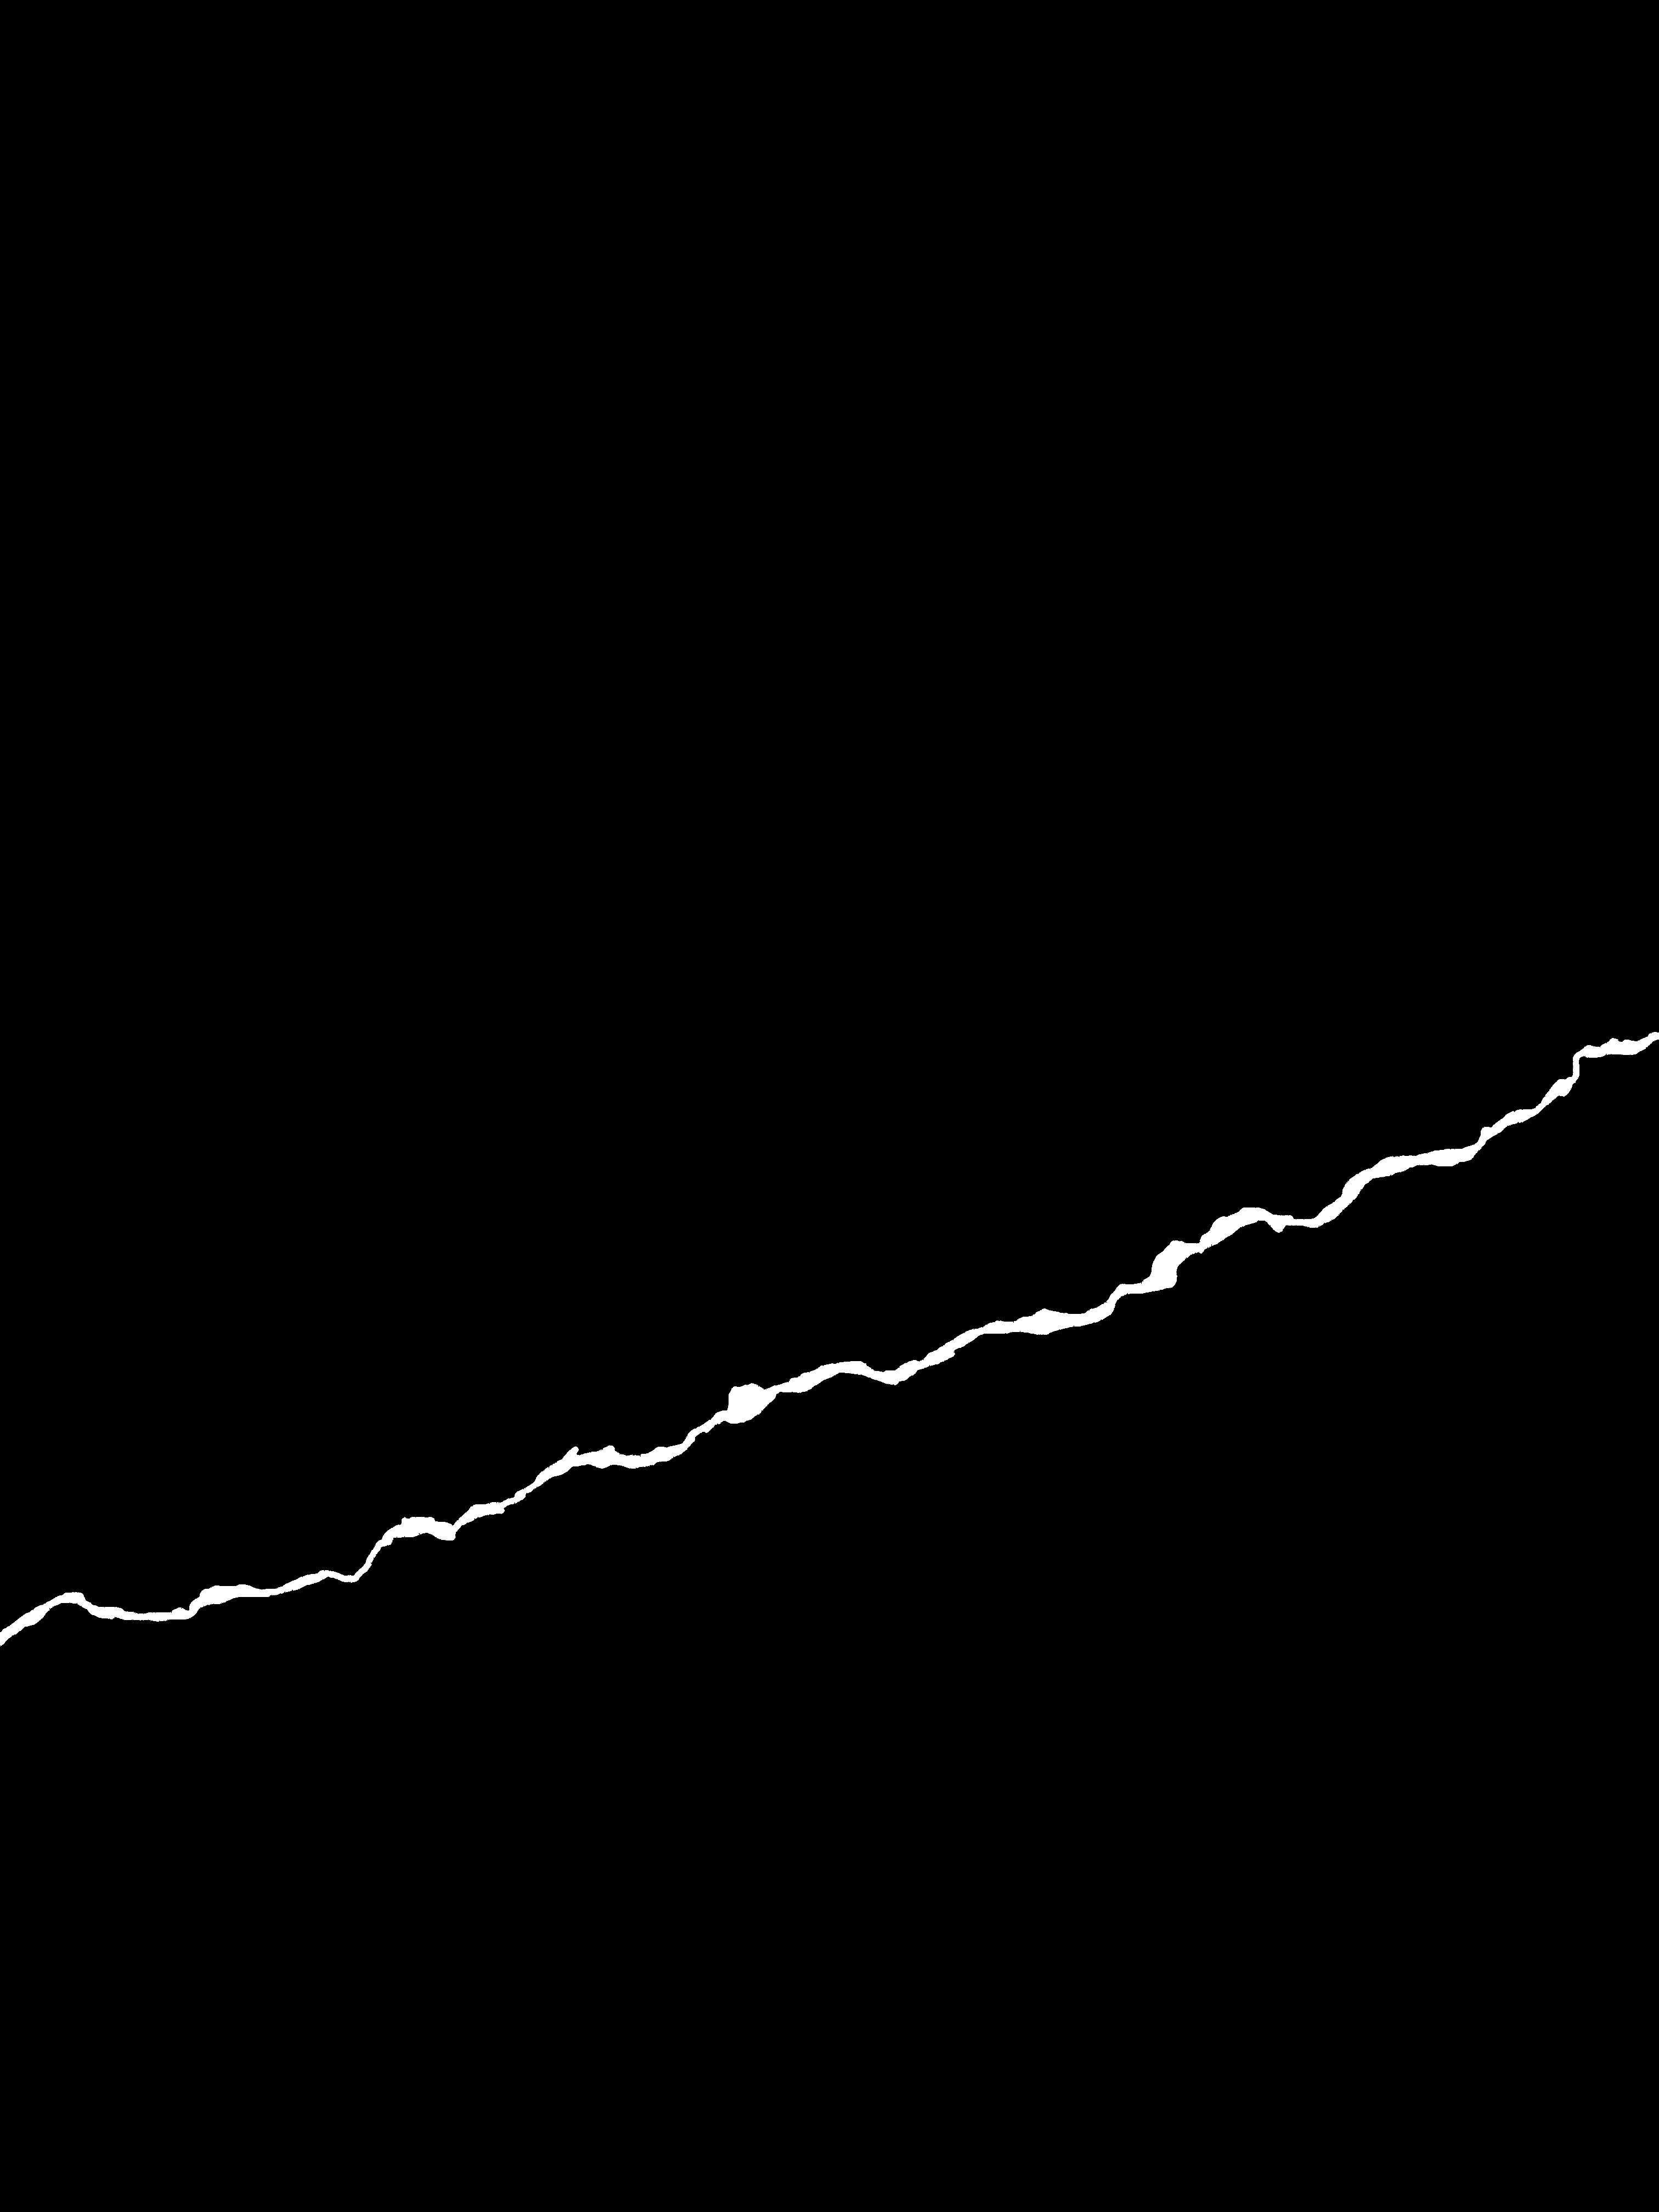Crack: (0, 1001, 1659, 1658)
